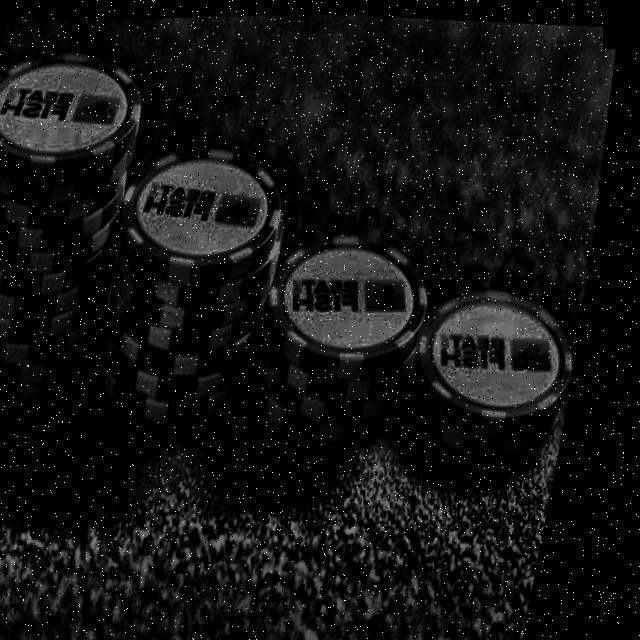Chip: (85, 121, 341, 440), (0, 23, 187, 449), (247, 208, 466, 451), (403, 271, 601, 474)
